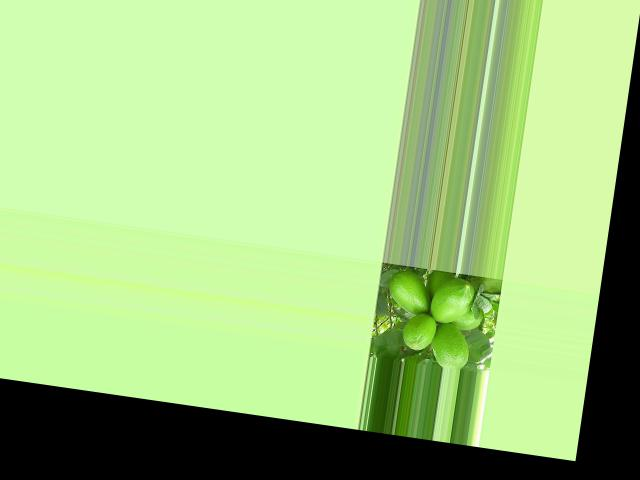lemon: (384, 269, 436, 317)
